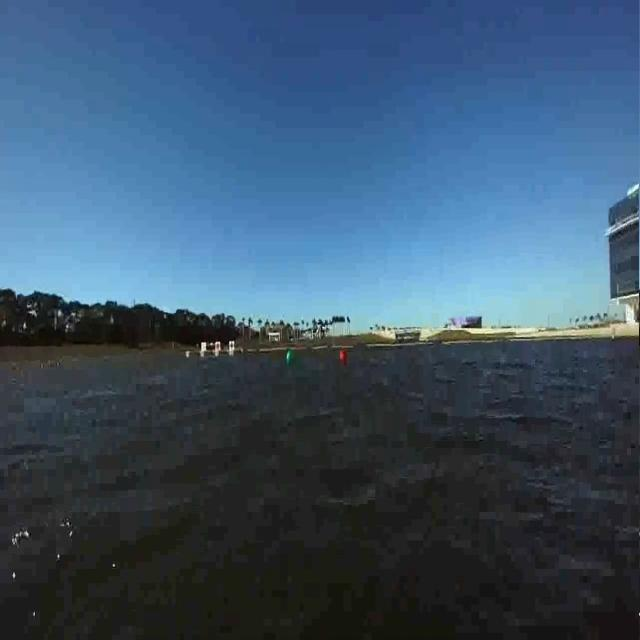green-buoy: (286, 350, 294, 366)
red-buoy: (342, 351, 348, 362)
